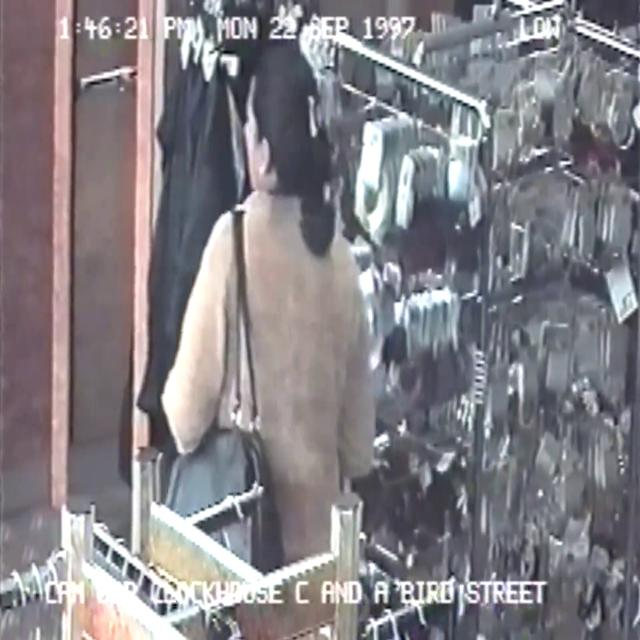normal: (147, 6, 402, 640)
